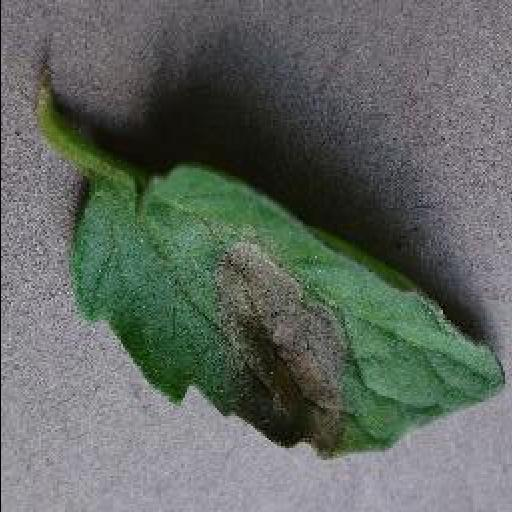disease_tomato: (64, 162, 506, 462)
